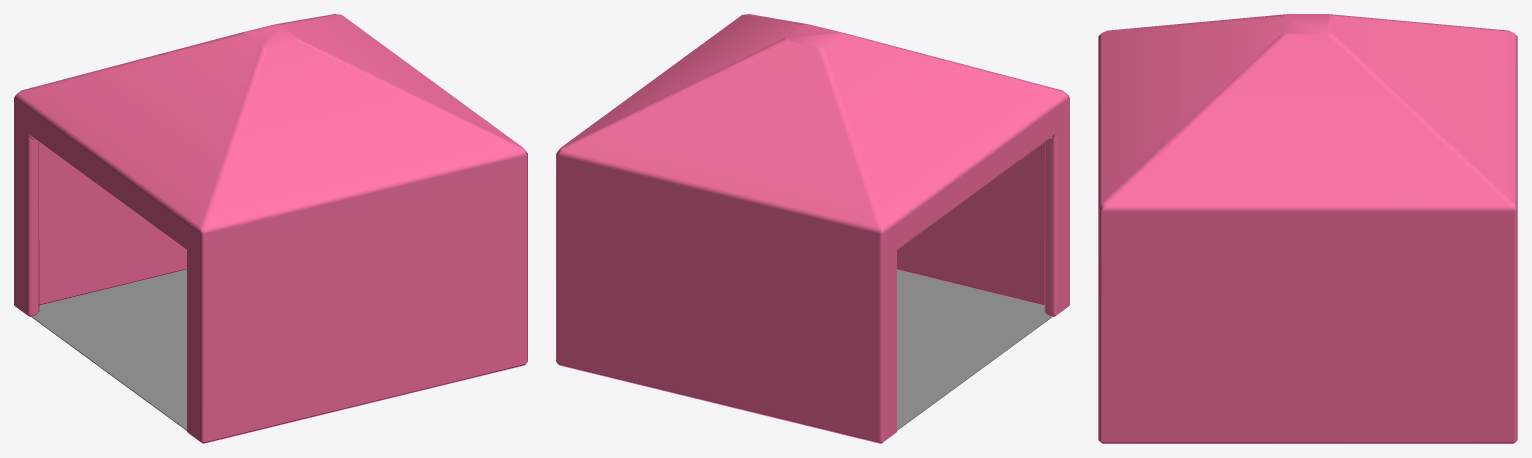
Rendered from Pit-box-Tent-small.fbx.
The picture shows the model from 3 angles, left to right: view 1: azimuth 30°, elevation 25°; view 2: azimuth 150°, elevation 25°; view 3: azimuth 270°, elevation 25°; orthographic projection. The views are drawn at different scales.
Visible parts, largest first — view 1: Pit-box-Tent-small, Pit-box-Tent-small_Floor; view 2: Pit-box-Tent-small, Pit-box-Tent-small_Floor; view 3: Pit-box-Tent-small.
Boxes of the visible parts, left/top/right/bottom form: Pit-box-Tent-small: left=14, top=14, right=527, bottom=443; Pit-box-Tent-small_Floor: left=31, top=269, right=186, bottom=430; Pit-box-Tent-small: left=556, top=14, right=1069, bottom=443; Pit-box-Tent-small_Floor: left=897, top=269, right=1052, bottom=430; Pit-box-Tent-small: left=1098, top=14, right=1517, bottom=443.
Size of the model in its own units: 400 by 350 by 400.
